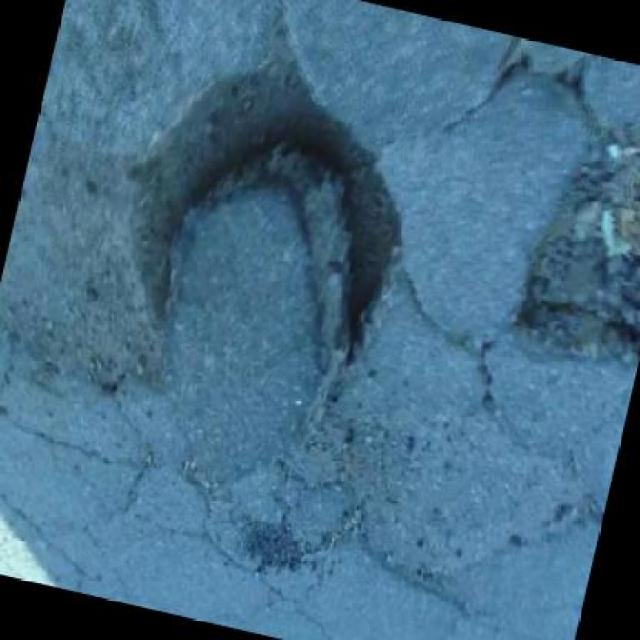pothole1: (88, 22, 442, 416), (500, 100, 638, 378)
